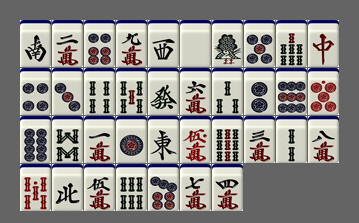0m: (180, 116, 211, 163)
0p: (308, 68, 339, 115)
0s: (20, 164, 51, 211)
1m: (84, 116, 115, 163)
1p: (116, 116, 147, 163)
1s: (212, 20, 243, 67)
1z: (148, 116, 179, 163)
2m: (52, 20, 83, 67)
2p: (244, 68, 275, 115)
2s: (276, 116, 307, 163)
2z: (20, 20, 51, 67)
3m: (244, 116, 275, 163)
3p: (52, 68, 83, 115)
3s: (212, 68, 243, 115)
3z: (148, 20, 179, 67)
4m: (212, 164, 243, 211)
4p: (20, 68, 51, 115)
4s: (84, 68, 115, 115)
4z: (52, 164, 83, 211)
5m: (84, 164, 115, 211)
5p: (244, 20, 275, 67)
5s: (116, 68, 147, 115)
5z: (180, 20, 211, 67)
6m: (180, 68, 211, 115)
6p: (84, 20, 115, 67)
6s: (116, 164, 147, 211)
6z: (148, 68, 179, 115)
7m: (180, 164, 211, 211)
7p: (148, 164, 179, 211)
7s: (276, 20, 307, 67)
7z: (308, 20, 339, 67)
8m: (308, 116, 339, 163)
8p: (20, 116, 51, 163)
8s: (52, 116, 83, 163)
9m: (116, 20, 147, 67)
9p: (276, 68, 307, 115)
9s: (212, 116, 243, 163)
